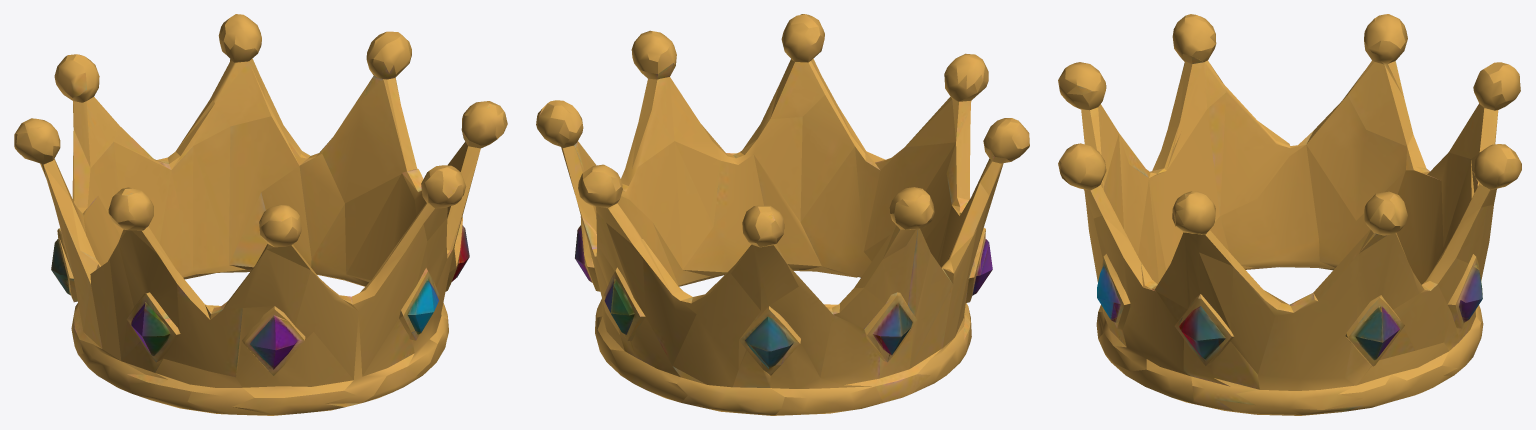
The model's file is hat_crown.fbx.
3 views of the same model, side by side, from view 1: azimuth 30°, elevation 25°; view 2: azimuth 150°, elevation 25°; view 3: azimuth 270°, elevation 25° (orthographic).
Visible parts, largest first — view 1: Mesh_0; view 2: Mesh_0; view 3: Mesh_0.
Part boxes in pixels (box(x1,y1,x2,y2)): Mesh_0: box(14, 14, 507, 415); Mesh_0: box(536, 14, 1029, 415); Mesh_0: box(1058, 14, 1521, 415).
Bounding box in the file's own units: 1.89 × 1.05 × 1.89.
1 material, 1 textured.
